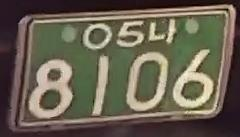0: (123, 51, 171, 111), (81, 22, 115, 53)
1: (85, 53, 113, 116)
5: (117, 20, 147, 49)
6: (170, 48, 215, 109)
8: (29, 60, 76, 119)
나: (148, 18, 180, 48)
